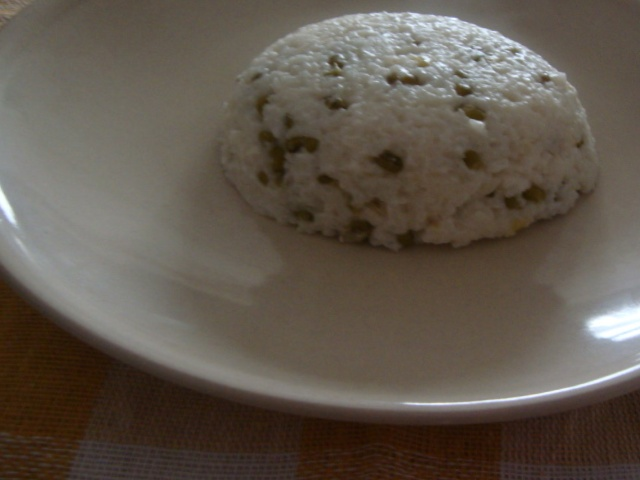kiribath: (209, 0, 609, 262)
